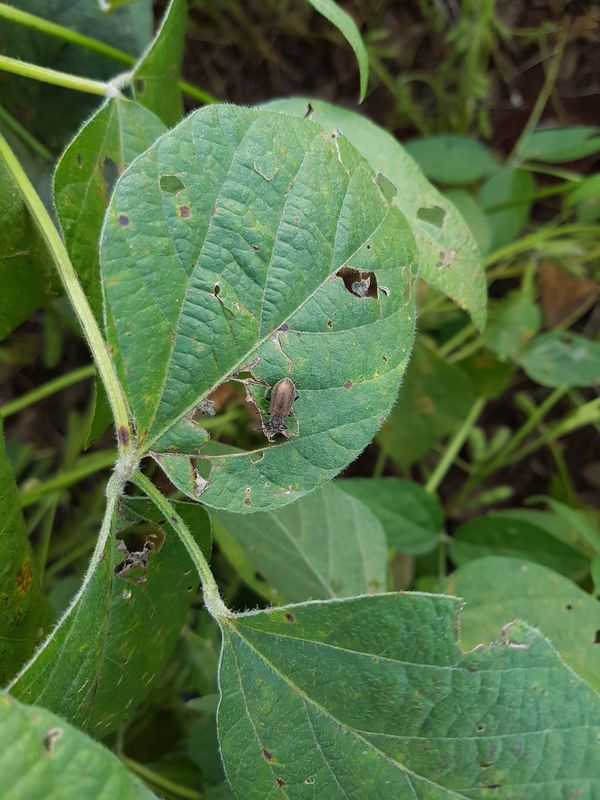Lagria_villosa: (251, 369, 313, 442)
